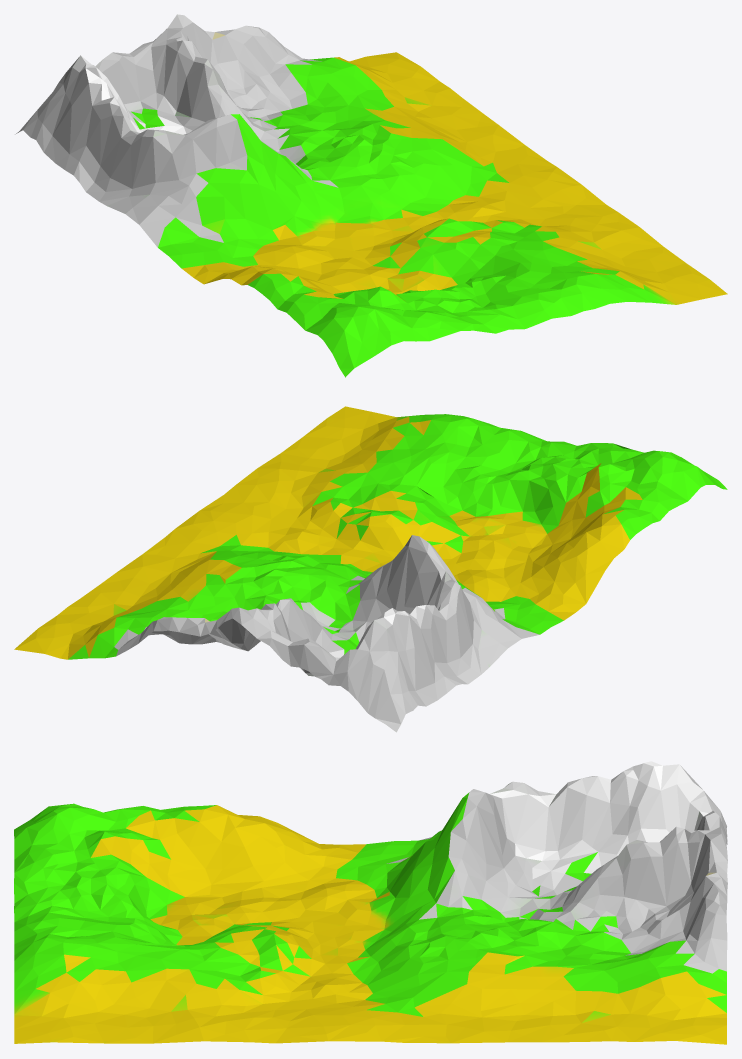
Rendered from terrain_polly.fbx.
3 views of the same model, one above another, from view 1: azimuth 30°, elevation 25°; view 2: azimuth 150°, elevation 25°; view 3: azimuth 270°, elevation 25° (orthographic). The views are drawn at different scales.
Visible parts, largest first — view 1: Terrain; view 2: Terrain; view 3: Terrain.
Part boxes in pixels (bbox=[...]): Terrain: bbox=[15, 14, 727, 377]; Terrain: bbox=[14, 406, 727, 732]; Terrain: bbox=[14, 761, 727, 1044].
Size of the model in its own units: 100132 by 24408 by 150239.
